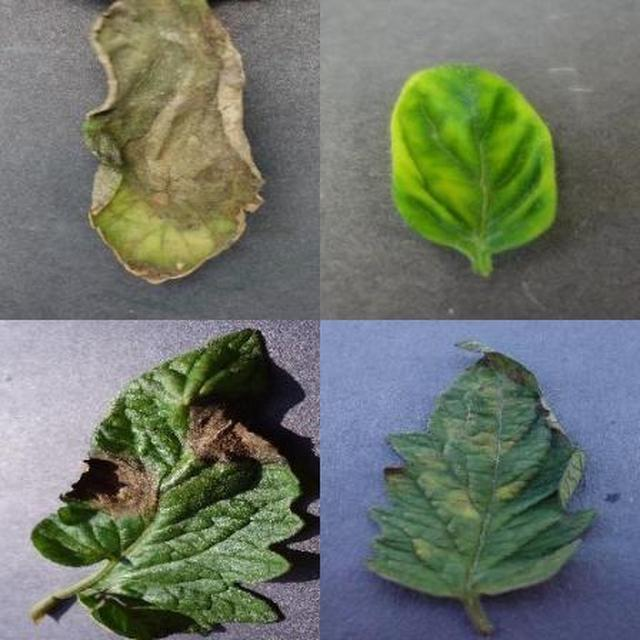Late Blight Leaf: (238, 205, 640, 640)
